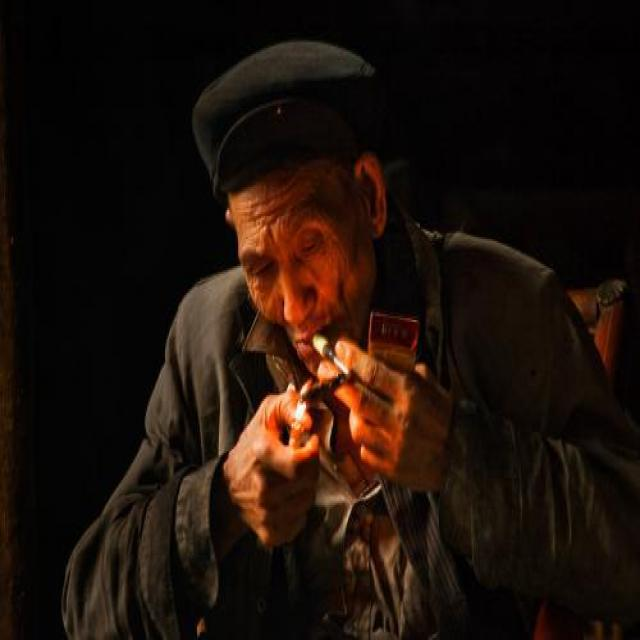cigarette: (297, 326, 358, 387)
